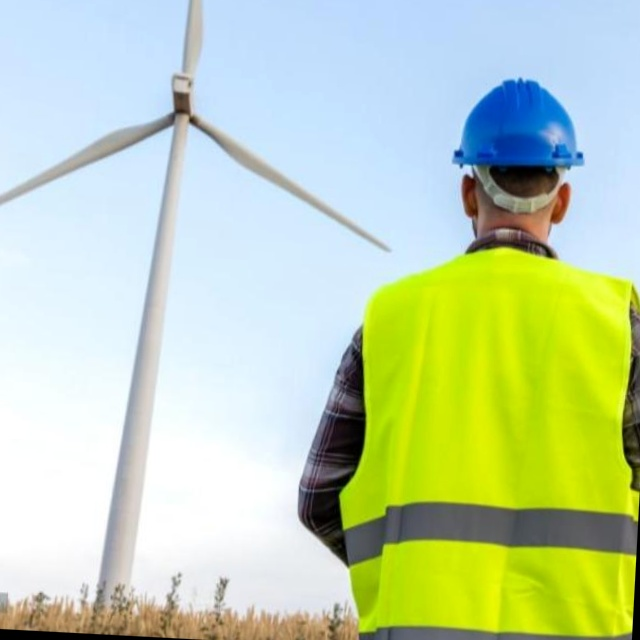Con_Casco: (445, 73, 590, 238)
Con_Chaleco: (344, 246, 640, 640)
